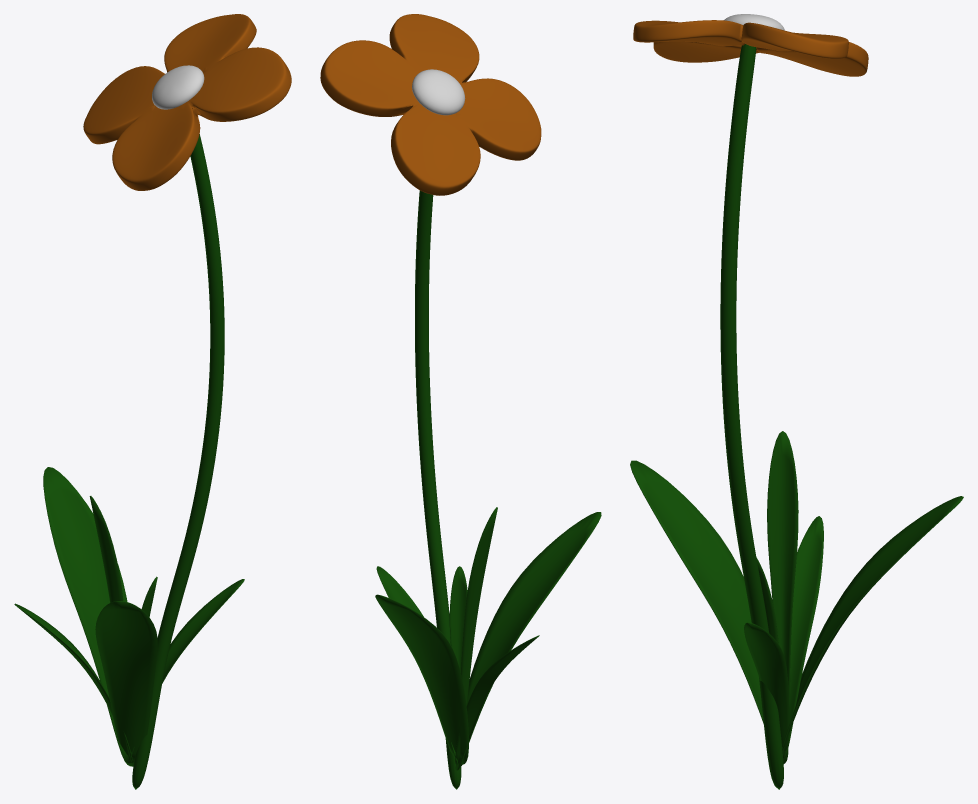
File: plants.obj
3 views of the same model, side by side, from view 1: azimuth 30°, elevation 25°; view 2: azimuth 150°, elevation 25°; view 3: azimuth 270°, elevation 25° (orthographic). The views are drawn at different scales.
Parts seen in each view (by area): view 1: leaf.007_Plane.007; view 2: leaf.007_Plane.007; view 3: leaf.007_Plane.007.
Boxes of the visible parts, x1,y1,x2,y2 form: leaf.007_Plane.007: (14,14,291,789); leaf.007_Plane.007: (320,14,601,789); leaf.007_Plane.007: (630,14,963,789).
Bounding box in the file's own units: 0.3801 × 1.19 × 0.4366.
